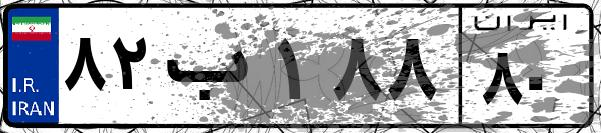0: (525, 38, 570, 115)
1: (270, 28, 330, 110)
2: (110, 28, 158, 98)
8: (385, 28, 445, 110), (330, 28, 385, 110), (57, 26, 110, 100), (475, 38, 525, 113)
ب: (158, 20, 270, 120)
